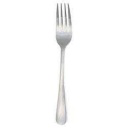Fork: (51, 1, 76, 128)
